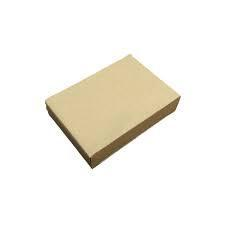box: (45, 55, 180, 168)
